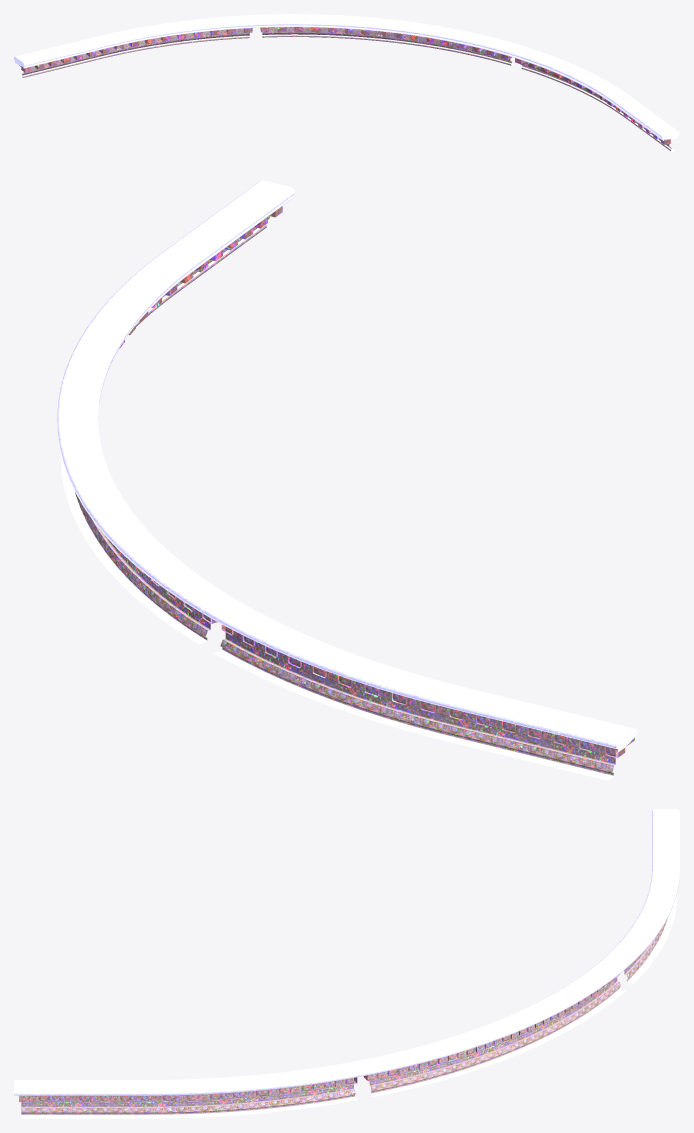
Rendered from trim_crown_corner_large_inverse_SM.fbx.
3 views of the same model, one above another, from view 1: azimuth 30°, elevation 25°; view 2: azimuth 150°, elevation 25°; view 3: azimuth 270°, elevation 25° (orthographic). The views are drawn at different scales.
Parts seen in each view (by area): view 1: trim_crown_corner_large_inverse_SM_LOD0; view 2: trim_crown_corner_large_inverse_SM_LOD0; view 3: trim_crown_corner_large_inverse_SM_LOD0.
Part boxes in pixels (<box>): trim_crown_corner_large_inverse_SM_LOD0: <box>14,14,679,151</box>; trim_crown_corner_large_inverse_SM_LOD0: <box>57,180,636,780</box>; trim_crown_corner_large_inverse_SM_LOD0: <box>14,809,679,1118</box>.
Size of the model in its own units: 2092 by 2092 by 100.
Materials: 3 (2 with a texture image).
